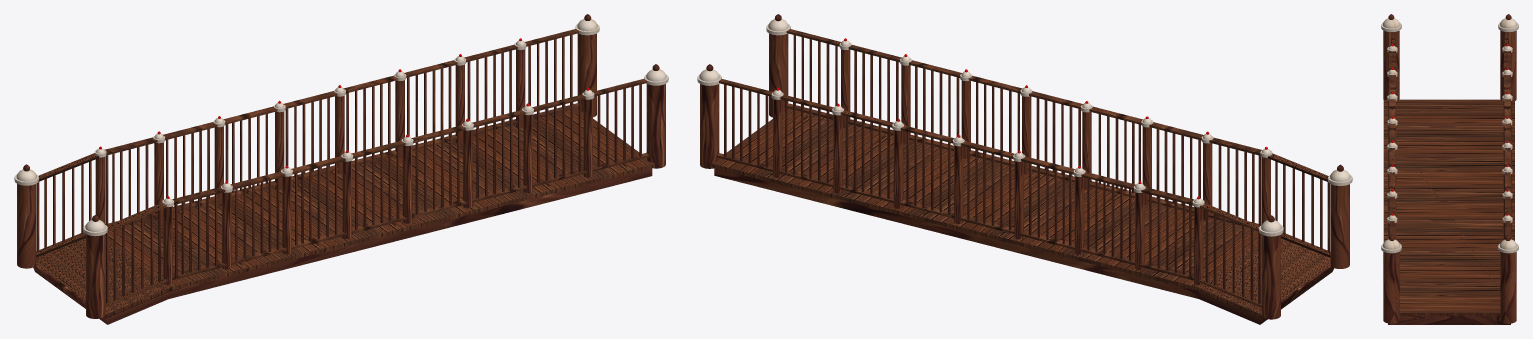
The model's file is bridge0.fbx.
The picture shows the model from 3 angles, left to right: view 1: azimuth 30°, elevation 25°; view 2: azimuth 150°, elevation 25°; view 3: azimuth 270°, elevation 25°; orthographic projection. The views are drawn at different scales.
Parts seen in each view (by area): view 1: bridgeSurface3, bridgeBottom3, bridgeHandle12, bridgeHandle10, bridgeHandle11, bridgeHandle9, bridgeColumnMain21, bridgeColumnMain19, bridgeColumnMain22, bridgeColumnMain20, bridgeColumnMain27, bridgeColumnMain25 (+14 smaller); view 2: bridgeSurface3, bridgeBottom3, bridgeHandle10, bridgeHandle12, bridgeHandle9, bridgeHandle11, bridgeColumnMain21, bridgeColumnMain19, bridgeColumnMain20, bridgeColumnMain22, bridgeColumnMain14, bridgeColumnMain17 (+14 smaller); view 3: bridgeSurface3, bridgeColumnMain20, bridgeColumnMain22, bridgeBottom3, bridgeHandle10, bridgeHandle12, bridgeColumnMain21, bridgeColumnMain19, bridgeColumnMainCap16, bridgeColumnMainCap25, bridgeColumnMainCap17, bridgeColumnMainCap24.
Boxes of the visible parts, box(x1,y1,x2,y2) form: bridgeSurface3: box(36, 108, 654, 316); bridgeBottom3: box(33, 168, 652, 324); bridgeHandle12: box(107, 78, 646, 231); bridgeHandle10: box(38, 29, 579, 181); bridgeHandle11: box(105, 152, 649, 307); bridgeHandle9: box(36, 103, 581, 257); bridgeColumnMain21: box(17, 184, 36, 268); bridgeColumnMain19: box(86, 234, 105, 318); bridgeColumnMain22: box(646, 84, 665, 168); bridgeColumnMain20: box(577, 33, 596, 117); bridgeColumnMain27: box(402, 145, 412, 223); bridgeColumnMain25: box(583, 99, 592, 177); bridgeSurface3: box(711, 108, 1331, 316); bridgeBottom3: box(714, 168, 1334, 324); bridgeHandle10: box(719, 78, 1259, 231); bridgeHandle12: box(786, 29, 1328, 181); bridgeHandle9: box(716, 153, 1261, 307); bridgeHandle11: box(784, 103, 1330, 257); bridgeColumnMain21: box(1261, 235, 1280, 319); bridgeColumnMain19: box(1330, 184, 1349, 268); bridgeColumnMain20: box(700, 84, 719, 168); bridgeColumnMain22: box(769, 33, 788, 117); bridgeColumnMain14: box(893, 130, 903, 208); bridgeColumnMain17: box(1074, 176, 1084, 254); bridgeSurface3: box(1383, 99, 1514, 316); bridgeColumnMain20: box(1500, 252, 1516, 323); bridgeColumnMain22: box(1383, 252, 1399, 323); bridgeBottom3: box(1388, 314, 1510, 324); bridgeHandle10: box(1504, 32, 1510, 236); bridgeHandle12: box(1389, 32, 1395, 236); bridgeColumnMain21: box(1500, 30, 1516, 100); bridgeColumnMain19: box(1383, 30, 1399, 99); bridgeColumnMainCap16: box(1382, 18, 1400, 28); bridgeColumnMainCap25: box(1499, 18, 1517, 28); bridgeColumnMainCap17: box(1382, 239, 1400, 249); bridgeColumnMainCap24: box(1499, 239, 1517, 249).
Size of the model in its own units: 7.44 by 1.53 by 1.8.
Materials: 4 (3 with a texture image).
